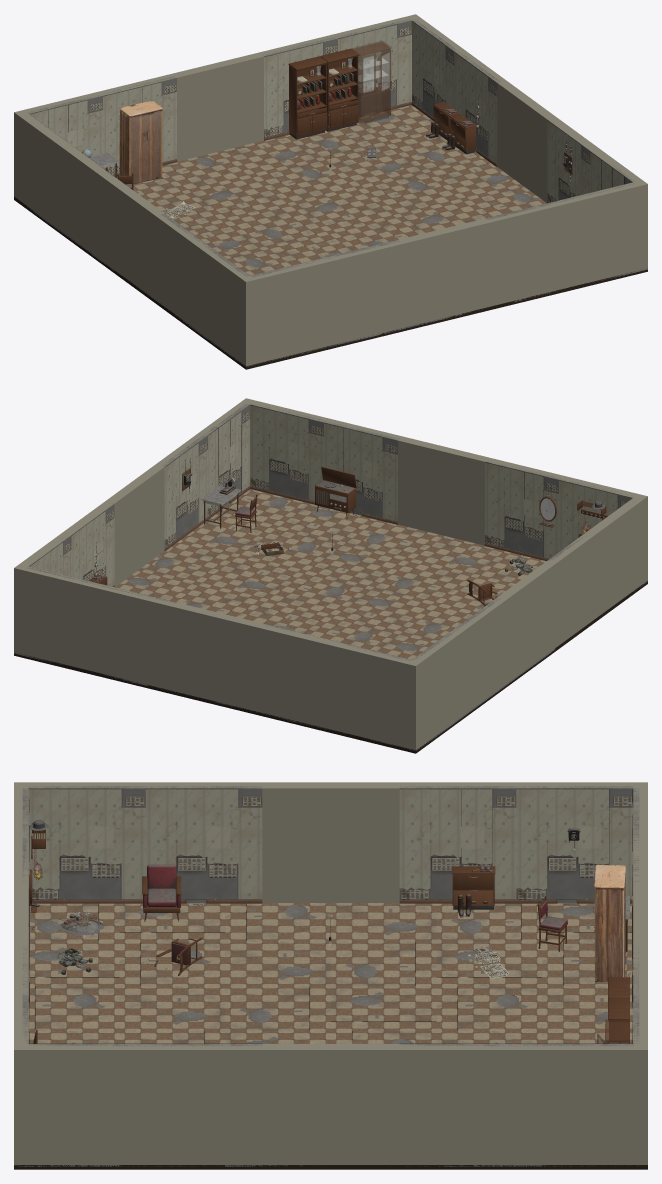
File: room_office_decorated_v2.glb
The picture shows the model from 3 angles, top to bottom: view 1: azimuth 30°, elevation 25°; view 2: azimuth 150°, elevation 25°; view 3: azimuth 270°, elevation 25°; orthographic projection. The views are drawn at different scales.
Visible parts, largest first — view 1: Wall_S_A, Wall_S_B, Wall_W_B, Wall_W_A, Plug_S, Plug_N, NoCol_Wallpaper_N3, Plug_W, Plug_E, HideSpot_Wardrobe_1, NoCol_Wallpaper_N1, NoCol_Wallpaper_E3 (+39 smaller); view 2: Wall_N_A, Wall_N_B, Wall_W_A, Wall_W_B, Plug_N, Plug_S, NoCol_Wallpaper_S3, NoCol_Wallpaper_S1, NoCol_Wallpaper_S2, Plug_W, Plug_E, NoCol_Wallpaper_E1 (+35 smaller); view 3: Wall_E_B, Wall_E_A, Plug_E, Plug_W, NoCol_Wallpaper_W0, NoCol_Wallpaper_W3, NoCol_Wallpaper_W1, NoCol_Wallpaper_W2, NoCol_FloorTile_13, NoCol_FloorTile_12, NoCol_FloorTile_21, NoCol_FloorTile_24 (+43 smaller).
Boxes of the visible parts, box(x1,y1,x2,y2) form: Wall_S_A: box(240, 240, 403, 365); Wall_S_B: box(487, 180, 647, 306); Wall_W_B: box(19, 114, 113, 262); Wall_W_A: box(155, 214, 249, 361); Plug_S: box(403, 233, 490, 327); Plug_N: box(177, 67, 263, 161); NoCol_Wallpaper_N3: box(336, 19, 411, 115); Plug_W: box(105, 189, 155, 299); Plug_E: box(497, 93, 547, 202); HideSpot_Wardrobe_1: box(119, 100, 162, 184); NoCol_Wallpaper_N1: box(101, 76, 176, 174); NoCol_Wallpaper_E3: box(411, 19, 457, 117); Wall_N_A: box(258, 624, 421, 749); Wall_N_B: box(14, 564, 175, 690); Wall_W_A: box(550, 498, 642, 646); Wall_W_B: box(413, 597, 506, 745); Plug_N: box(171, 617, 258, 711); Plug_S: box(398, 451, 484, 545); NoCol_Wallpaper_S3: box(250, 403, 325, 501); NoCol_Wallpaper_S1: box(485, 460, 560, 558); NoCol_Wallpaper_S2: box(324, 421, 399, 521); Plug_W: box(506, 573, 556, 683); Plug_E: box(114, 477, 164, 586); NoCol_Wallpaper_E1: box(162, 435, 207, 547); Wall_E_B: box(399, 1044, 633, 1164); Wall_E_A: box(28, 1044, 262, 1164); Plug_E: box(262, 1064, 399, 1164); Plug_W: box(262, 802, 399, 902); NoCol_Wallpaper_W0: box(28, 786, 145, 899); NoCol_Wallpaper_W3: box(516, 786, 633, 903); NoCol_Wallpaper_W1: box(145, 786, 262, 903); NoCol_Wallpaper_W2: box(399, 786, 516, 899); NoCol_FloorTile_13: box(331, 941, 436, 986); NoCol_FloorTile_12: box(225, 941, 330, 986); NoCol_FloorTile_21: box(119, 986, 225, 1030); NoCol_FloorTile_24: box(436, 986, 542, 1030).
Size of the model in its own units: 12 by 2.5 by 12.
35 materials, 25 textured.
